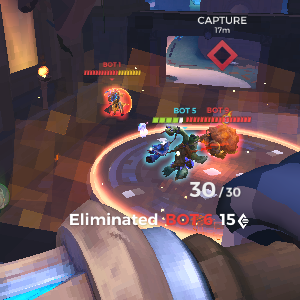model: (203, 121, 244, 162), (103, 82, 124, 118)
